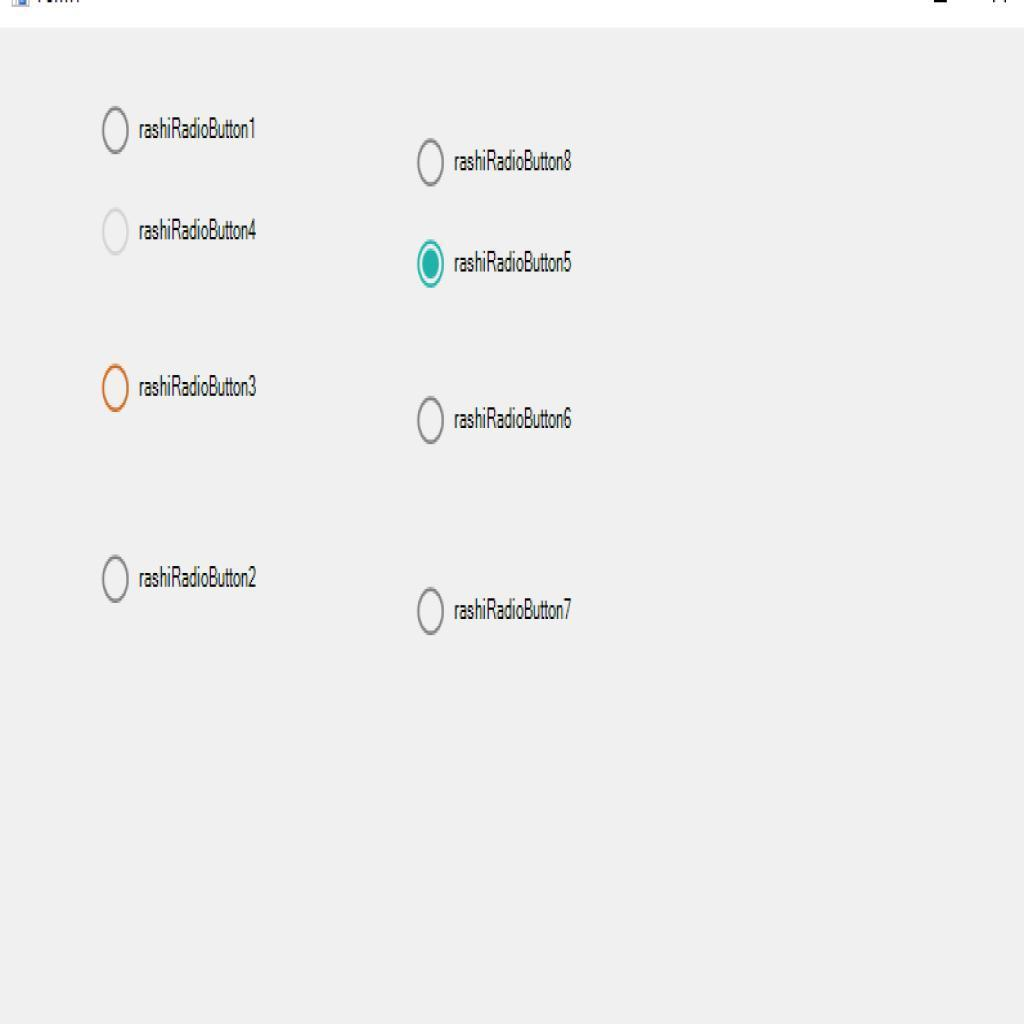radio: (99, 103, 133, 156), (99, 362, 132, 414), (415, 239, 448, 289), (100, 207, 133, 256), (416, 137, 447, 189), (418, 396, 448, 448), (102, 555, 132, 605), (417, 584, 444, 636)
